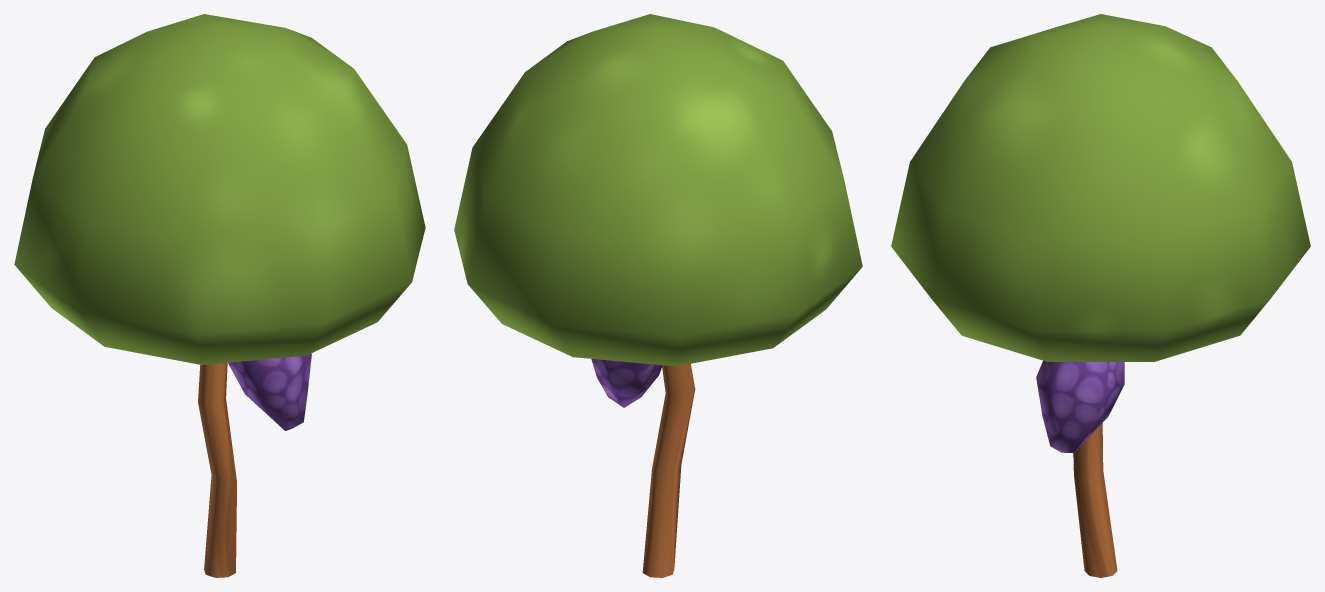
Rendered from Arvore_1_Uva.fbx.
The picture shows the model from 3 angles, left to right: view 1: azimuth 30°, elevation 25°; view 2: azimuth 150°, elevation 25°; view 3: azimuth 270°, elevation 25°; orthographic projection.
Parts seen in each view (by area): view 1: Arvore_1_Uva; view 2: Arvore_1_Uva; view 3: Arvore_1_Uva.
Part boxes in pixels (box(x1,y1,x2,y2)): Arvore_1_Uva: box(14, 14, 425, 577); Arvore_1_Uva: box(454, 14, 862, 577); Arvore_1_Uva: box(891, 14, 1310, 577).
Bounding box in the file's own units: 105 × 158 × 111.
